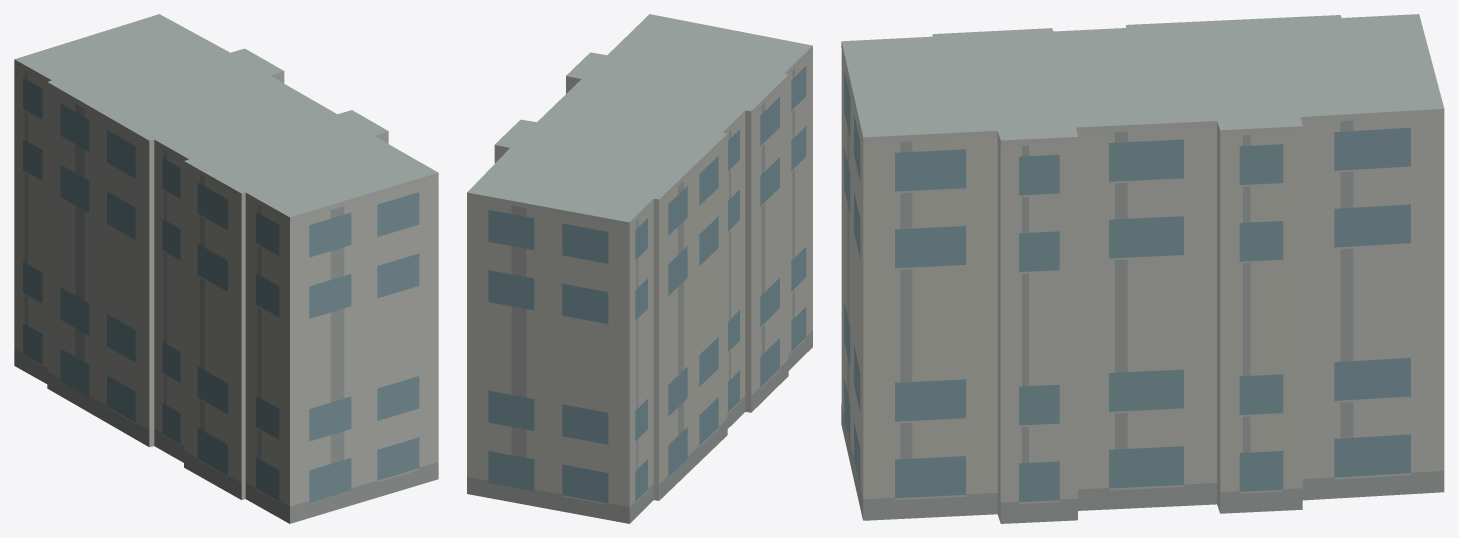
File: survey-upis-32953813.glb
The picture shows the model from 3 angles, left to right: view 1: azimuth 30°, elevation 25°; view 2: azimuth 150°, elevation 25°; view 3: azimuth 270°, elevation 25°; orthographic projection. The views are drawn at different scales.
Visible parts, largest first — view 1: survey-upis-32953813.tmp; view 2: survey-upis-32953813.tmp; view 3: survey-upis-32953813.tmp.
Part boxes in pixels (x1,y1,x2,y2): survey-upis-32953813.tmp: [14, 14, 438, 523]; survey-upis-32953813.tmp: [467, 14, 812, 523]; survey-upis-32953813.tmp: [841, 14, 1444, 523].
Size of the model in its own units: 10.48 by 14.8 by 21.1.
